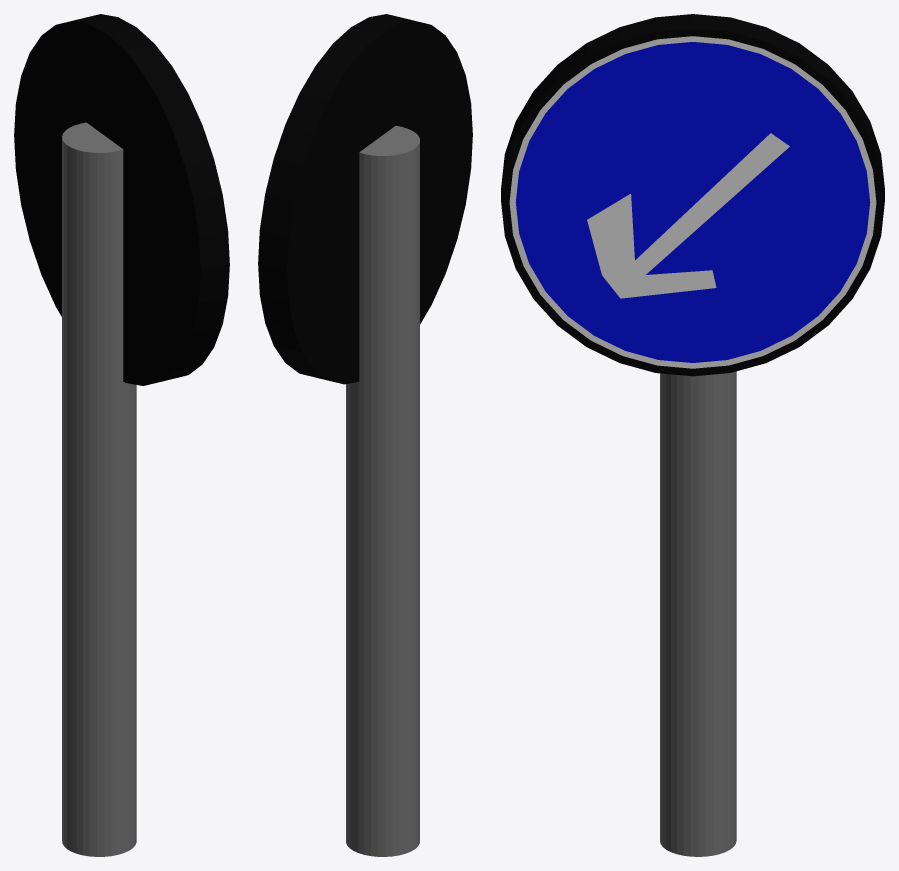
File: keep_left.fbx
The picture shows the model from 3 angles, left to right: view 1: azimuth 30°, elevation 25°; view 2: azimuth 150°, elevation 25°; view 3: azimuth 270°, elevation 25°; orthographic projection. The views are drawn at different scales.
Visible parts, largest first — view 1: Cylinder, Circle; view 2: Cylinder, Circle; view 3: Circle, Cylinder.
Boxes of the visible parts, x1=… form: Cylinder: x1=62, y1=122, x2=136, y2=856; Circle: x1=14, y1=14, x2=229, y2=385; Cylinder: x1=346, y1=126, x2=419, y2=856; Circle: x1=258, y1=14, x2=472, y2=384; Circle: x1=501, y1=14, x2=884, y2=376; Cylinder: x1=660, y1=371, x2=736, y2=856.
Size of the model in its own units: 207 by 2385 by 1000.
